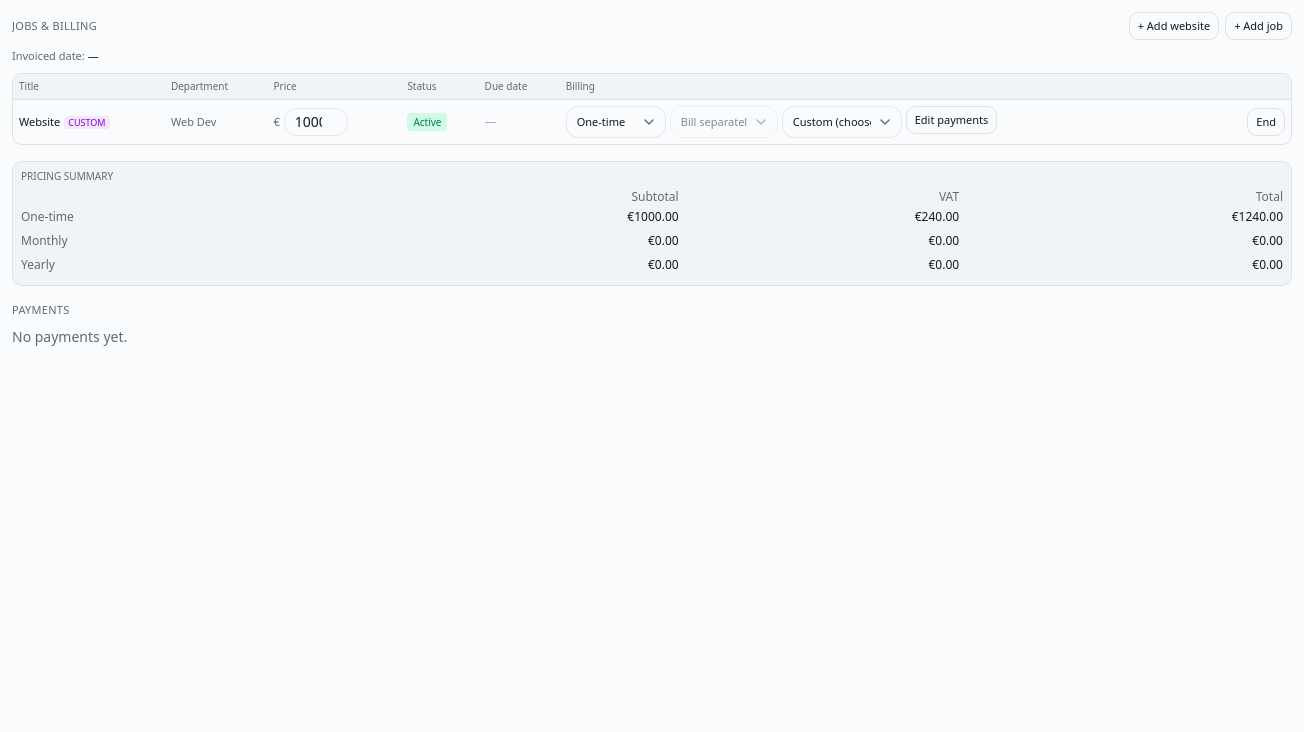
JobsBillingPanel installment plan › opens the schedule editor seeded from the saved schedule via Edit payments
Click the button "Edit payments" at (952, 120), box [906,106,997,134]
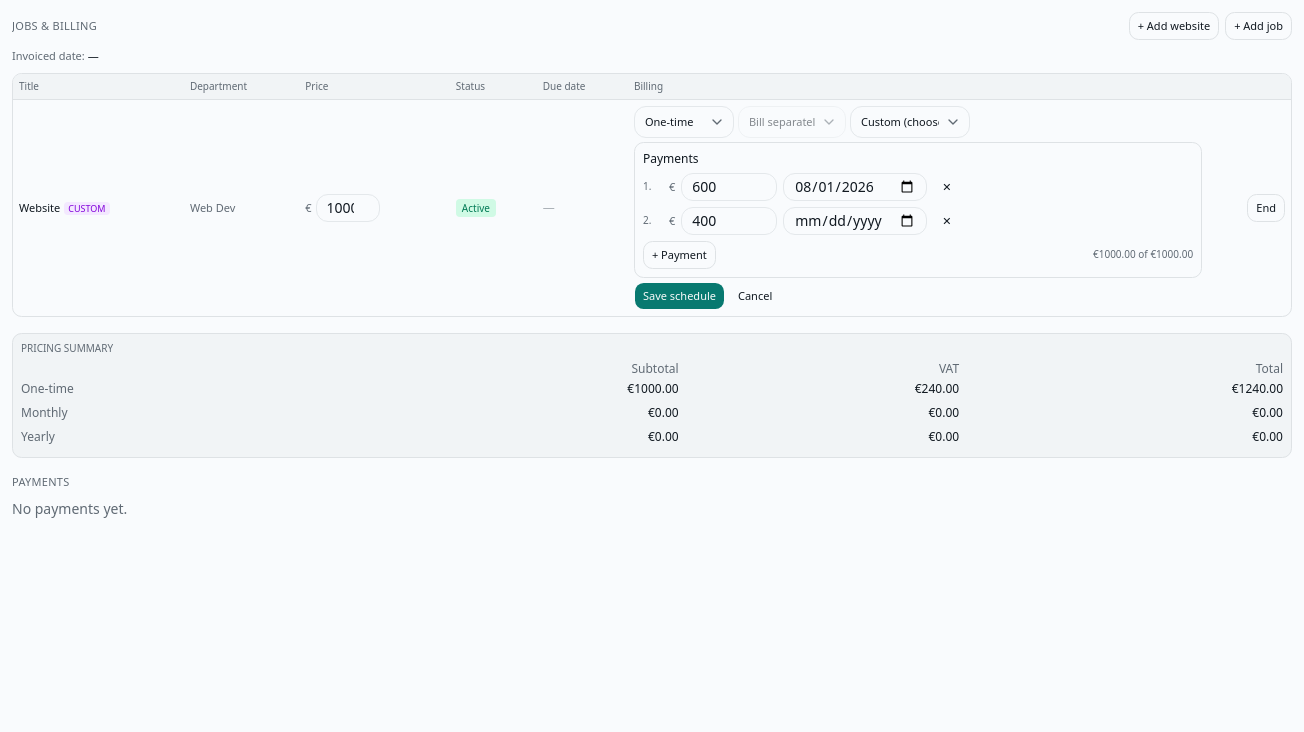
Expected: the 1st date field named "due date" holds "2026-08-01", [783,173,927,201]
Expected: the button "Save schedule" is shown, [634,282,725,310]
Expected: the button "Edit payments" is gone
